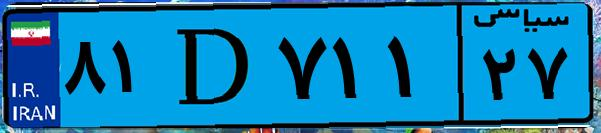1: (385, 28, 445, 110), (330, 28, 385, 110), (110, 28, 158, 98)
2: (475, 38, 525, 113)
7: (270, 28, 330, 110), (525, 38, 570, 115)
8: (57, 26, 110, 100)
D: (158, 12, 270, 120)
